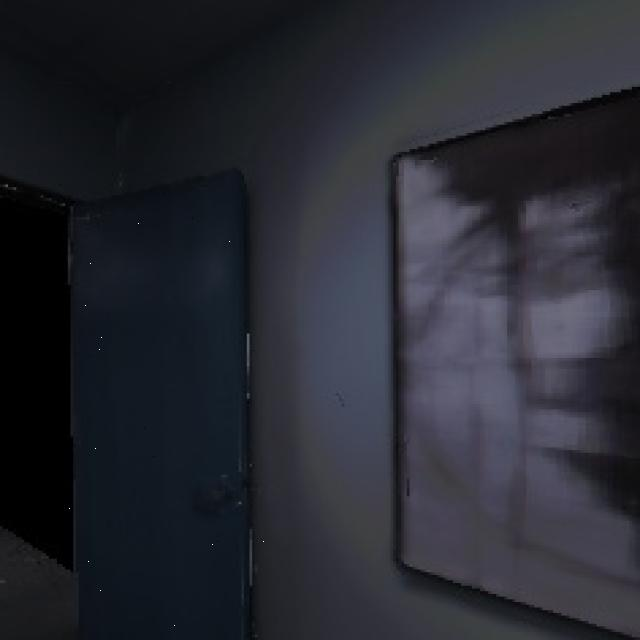door: (51, 146, 274, 640)
